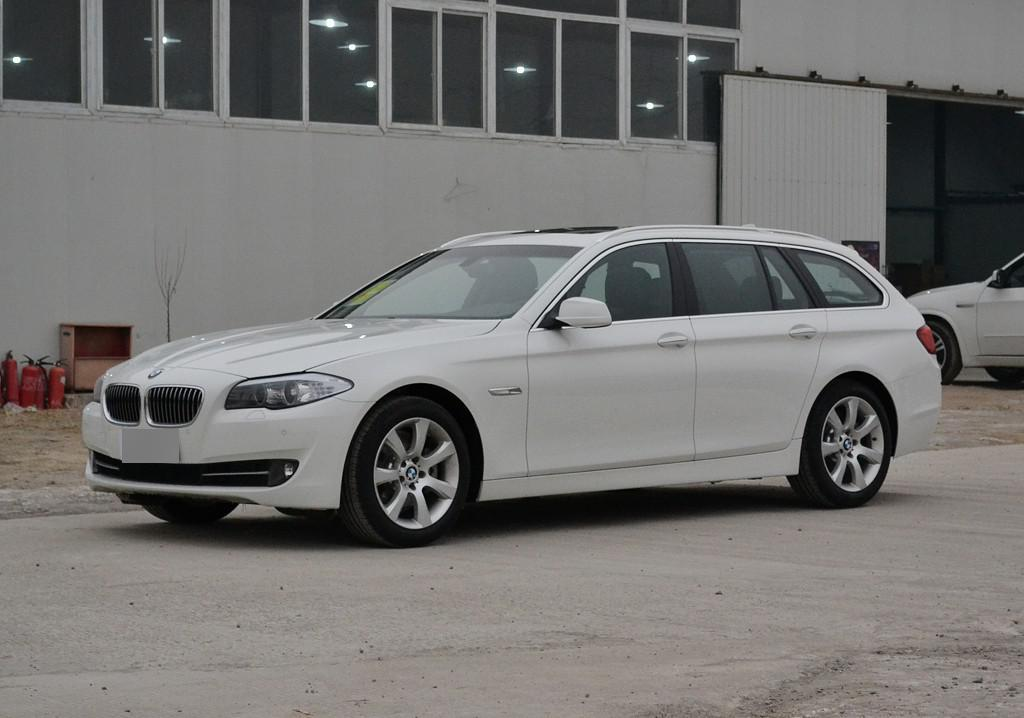Wagon: (81, 220, 942, 550)
